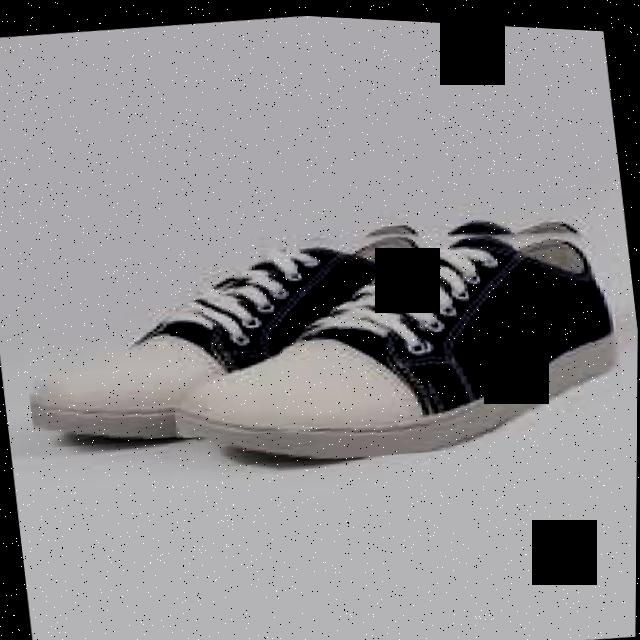shoe: (163, 187, 631, 484), (12, 200, 442, 464)
